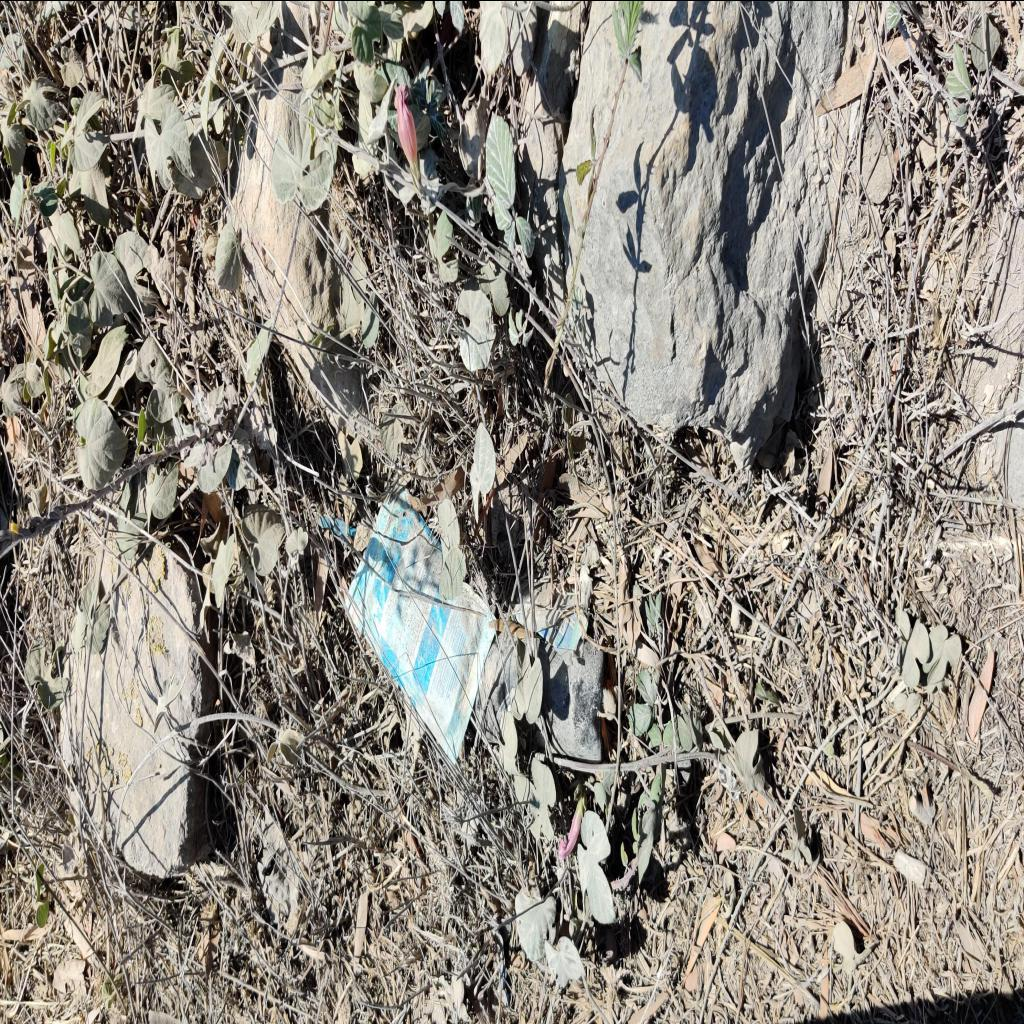Glass bottle: (476, 632, 606, 764)
Other carton: (511, 542, 597, 660)
Other plastic: (340, 484, 498, 768)
